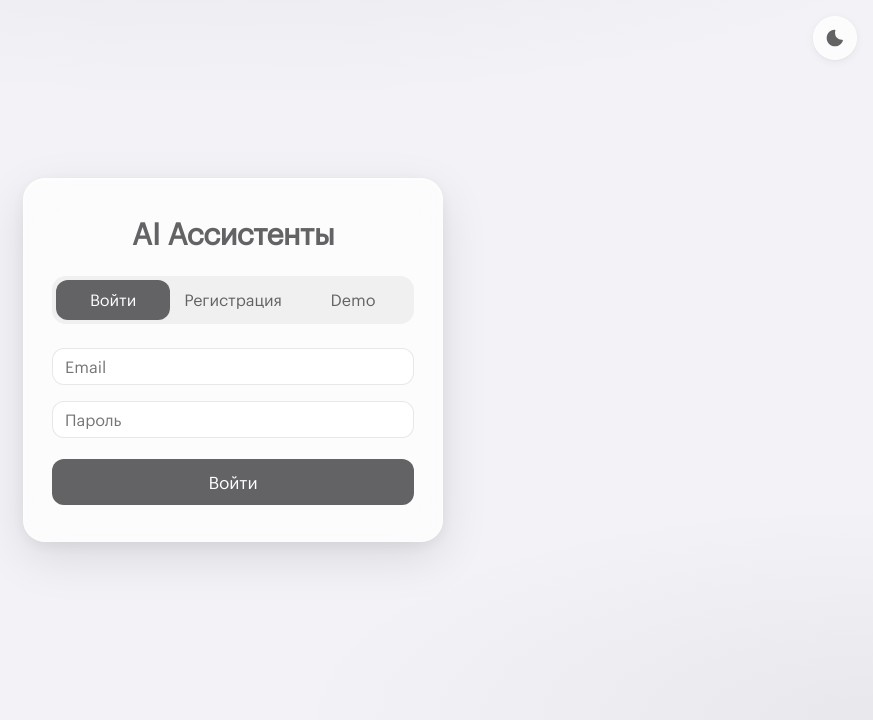
it: Login — LoginForm › показывает ошибку при пустом email и пароле
What coordinates should you click on to do the following:
click the button "Войти"
I would click on:
 (233, 482)
Its box is x1=52 y1=459 x2=414 y2=505.
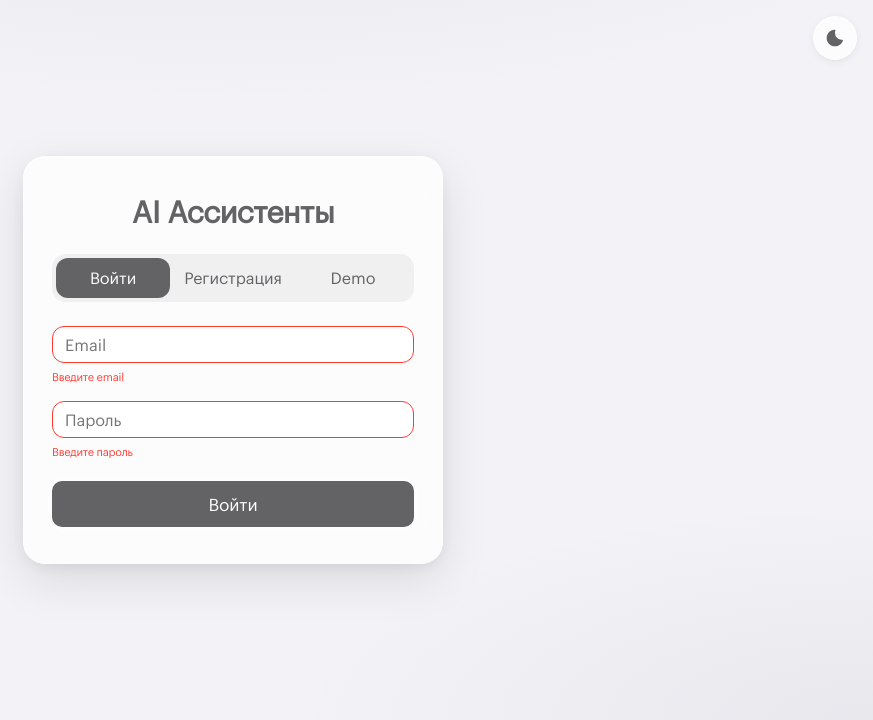
Result: the text "Введите email" is shown at x1=52 y1=370 x2=124 y2=383
Result: the text "Введите пароль" is shown at x1=52 y1=444 x2=133 y2=458
